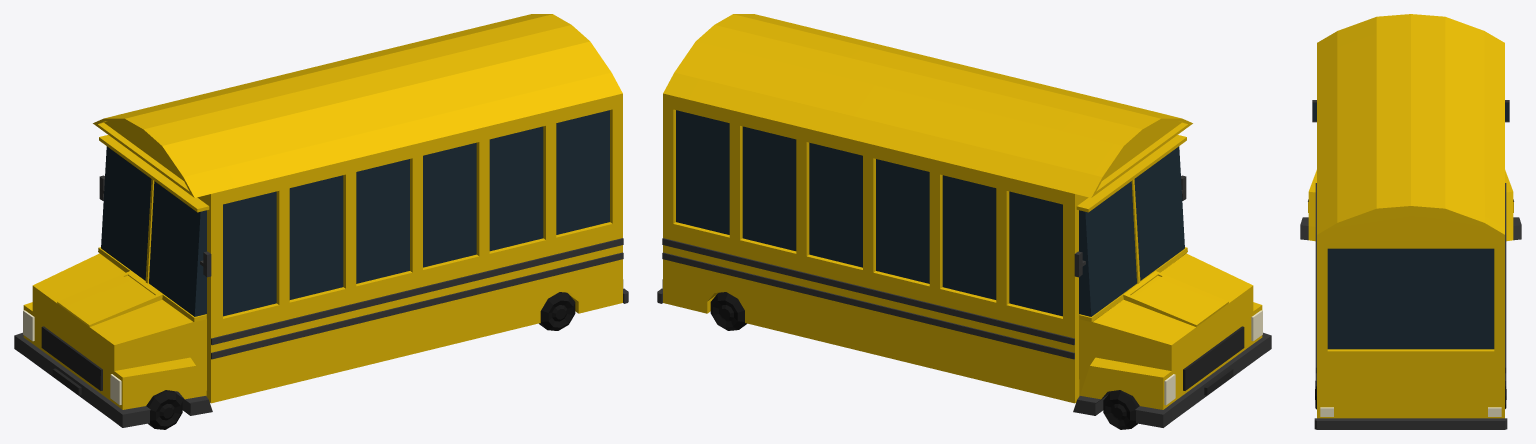
Rendered from scuolabus.glb.
3 views of the same model, side by side, from view 1: azimuth 30°, elevation 25°; view 2: azimuth 150°, elevation 25°; view 3: azimuth 270°, elevation 25° (orthographic). The views are drawn at different scales.
Visible parts, largest first — view 1: SchoolBus_Cube.001, FrontWheels_Cylinder.006, BackWheels_Cylinder.007; view 2: SchoolBus_Cube.001, FrontWheels_Cylinder.006, BackWheels_Cylinder.007; view 3: SchoolBus_Cube.001.
Part boxes in pixels (x1,y1,x2,y2): SchoolBus_Cube.001: [14, 14, 628, 427]; FrontWheels_Cylinder.006: [146, 390, 182, 429]; BackWheels_Cylinder.007: [539, 292, 575, 330]; SchoolBus_Cube.001: [657, 14, 1271, 427]; FrontWheels_Cylinder.006: [1103, 390, 1139, 429]; BackWheels_Cylinder.007: [710, 292, 746, 330]; SchoolBus_Cube.001: [1300, 14, 1521, 429].
Size of the model in its own units: 4.61 by 2.19 by 1.88.
